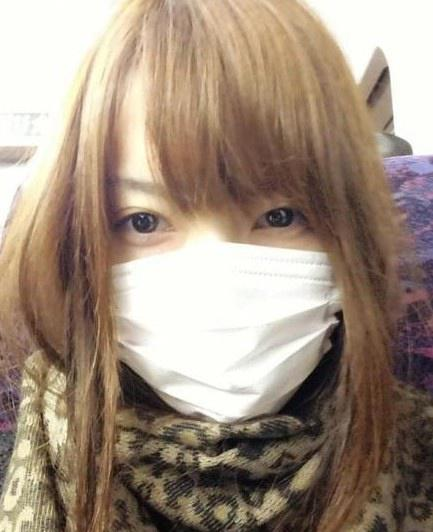OK: (95, 139, 368, 412)
